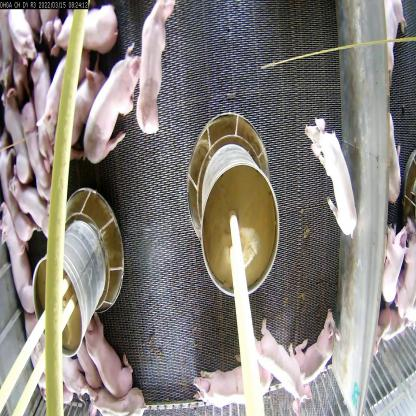Pig: (302, 112, 358, 246), (85, 44, 139, 168), (253, 318, 311, 412), (134, 0, 173, 131), (81, 298, 134, 394), (284, 302, 341, 391), (188, 349, 270, 408), (0, 201, 37, 317), (63, 57, 106, 156), (55, 0, 118, 56), (37, 54, 63, 144), (6, 6, 40, 71), (384, 214, 405, 315)
